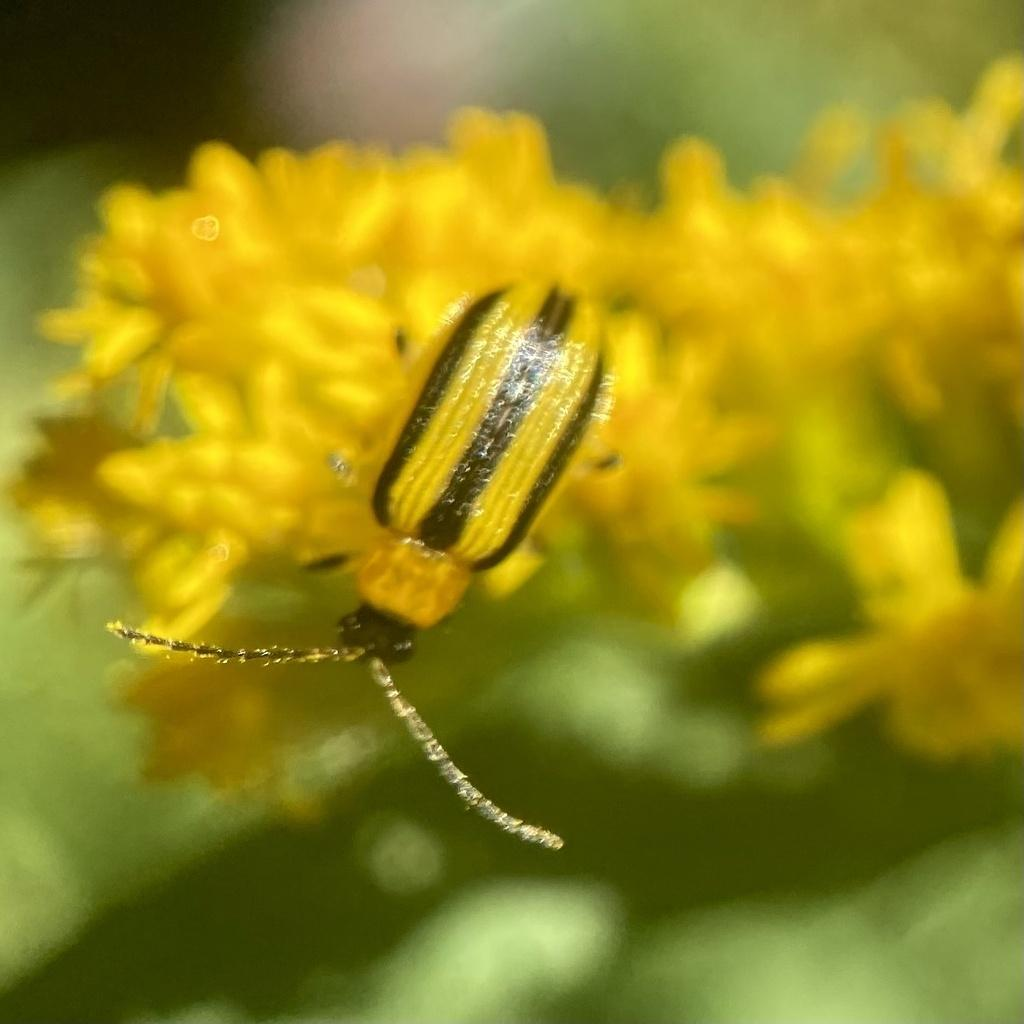potato_beetle: (50, 197, 747, 984)
